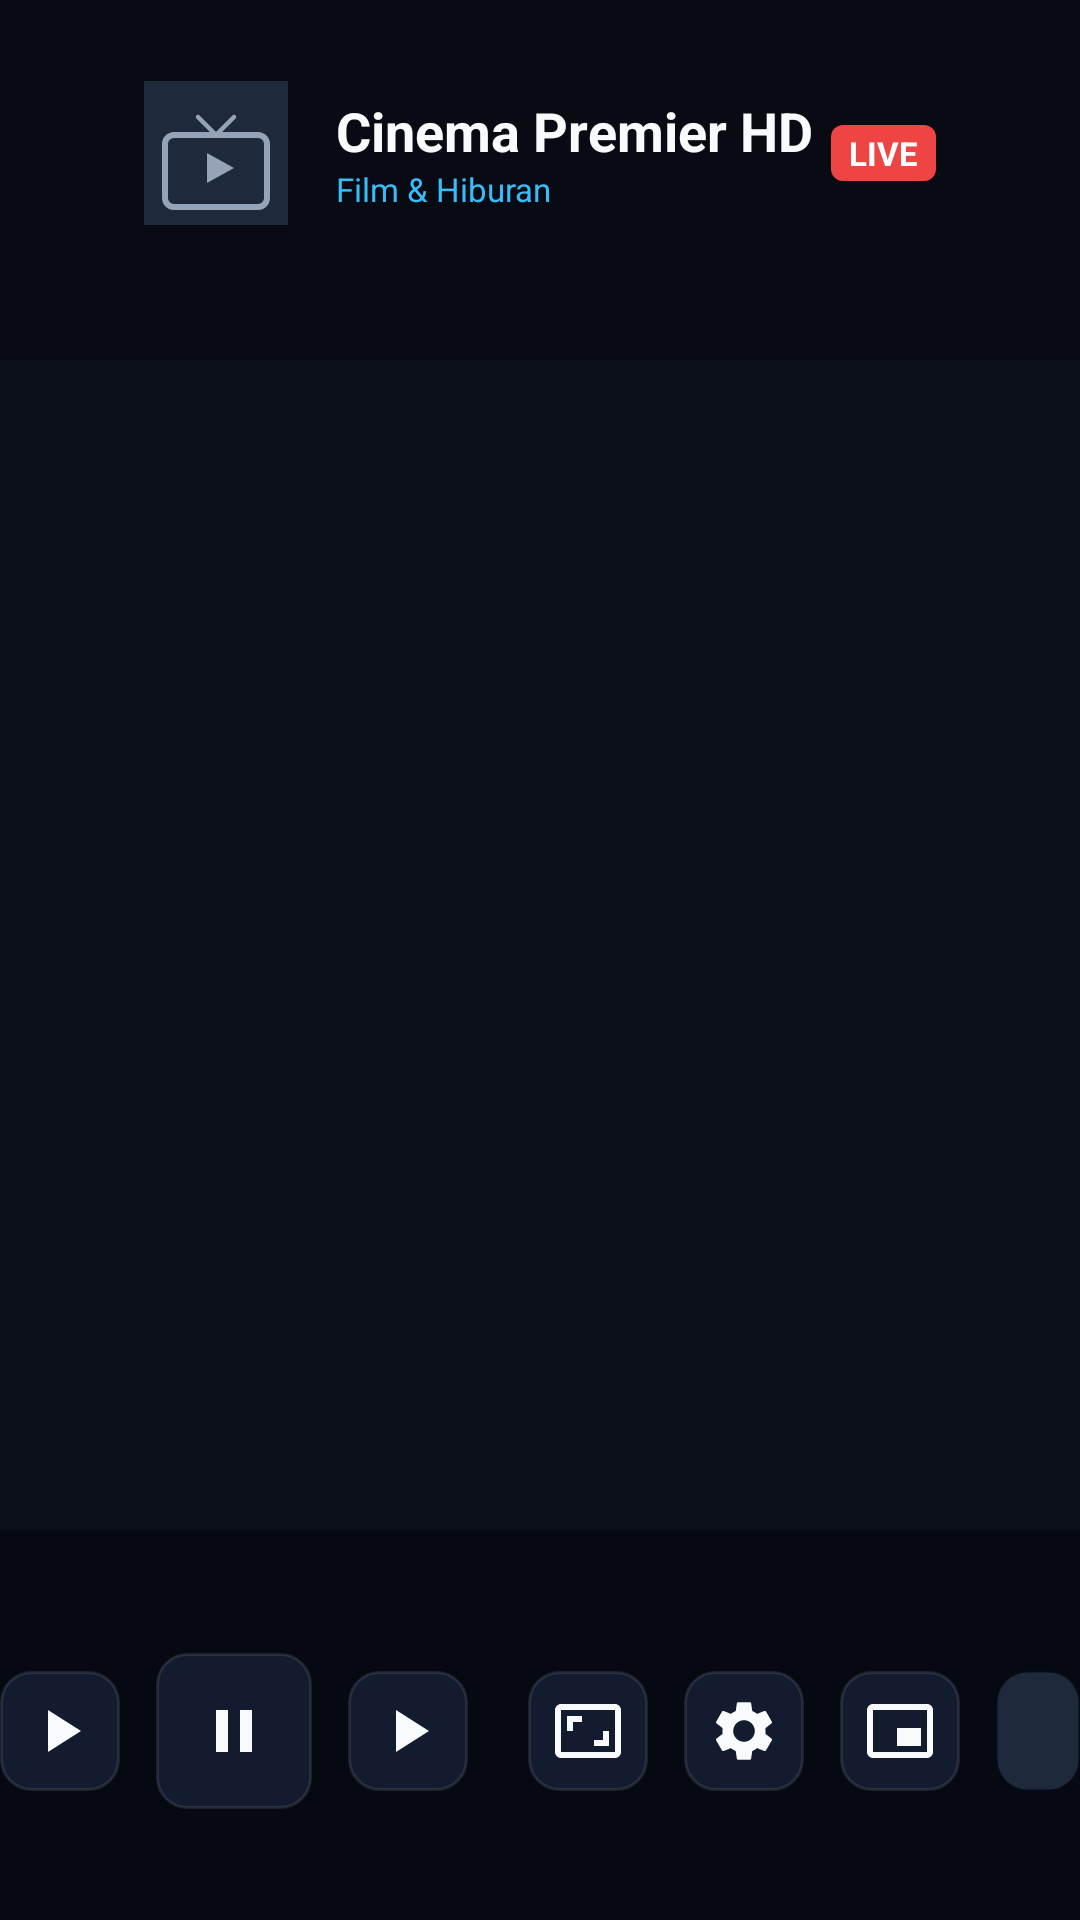

Icons on this 1080 × 1920 Android screen, each with the point to tap as (x,y):
Picture-in-Picture: (900,1731)
Rasio Aspek: (588,1731)
